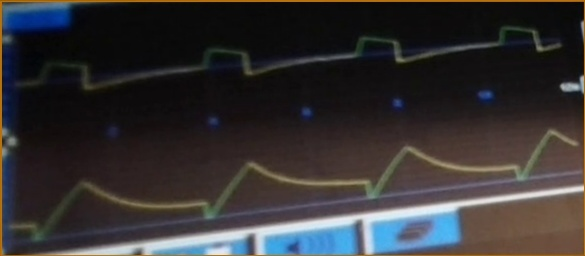Flow: (21, 22, 561, 97)
Leakage Volume: (20, 126, 579, 243)
